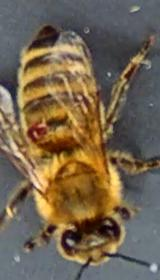varroa_mite: (15, 113, 66, 148)
